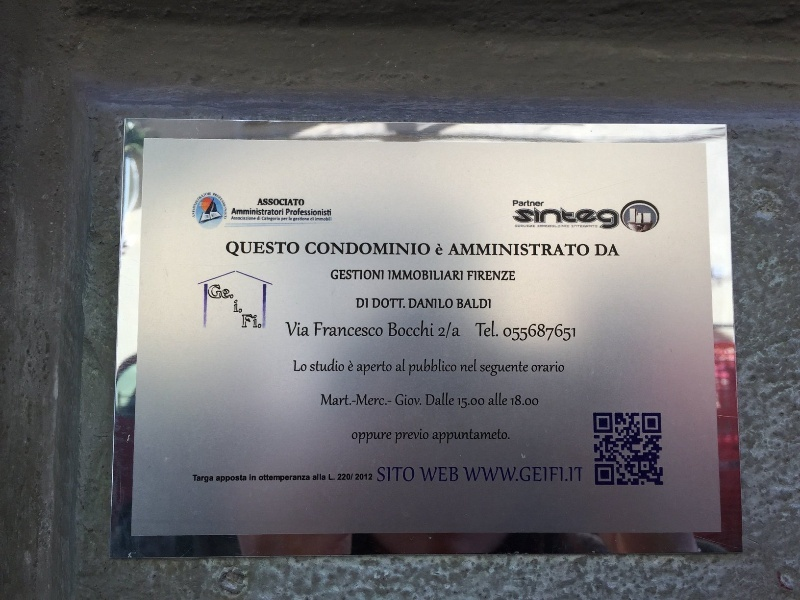text: (225, 282, 240, 341), (241, 282, 256, 341), (257, 282, 267, 341), (193, 191, 208, 223), (529, 207, 544, 231), (545, 207, 560, 231), (561, 207, 576, 231), (577, 207, 592, 231), (593, 207, 608, 231), (213, 192, 224, 223), (515, 207, 528, 231), (513, 323, 528, 343), (529, 323, 544, 343), (545, 323, 560, 343), (561, 323, 576, 343), (417, 356, 432, 376), (433, 356, 448, 376), (433, 425, 448, 445), (449, 425, 464, 445), (465, 425, 480, 445), (481, 425, 496, 445), (401, 426, 416, 445), (497, 425, 511, 445), (289, 321, 304, 339), (401, 320, 416, 338), (417, 320, 432, 338), (481, 320, 496, 338), (481, 360, 496, 378), (497, 360, 512, 378), (513, 360, 528, 378), (465, 466, 480, 484), (481, 466, 496, 484), (497, 466, 512, 484), (513, 466, 528, 484), (529, 466, 544, 484), (545, 466, 560, 484), (561, 466, 576, 484), (417, 426, 431, 445), (609, 207, 620, 231), (241, 241, 256, 258), (257, 241, 272, 258), (273, 241, 288, 258), (369, 360, 384, 377), (321, 392, 336, 409), (337, 392, 352, 409), (353, 392, 368, 409), (369, 392, 384, 409), (385, 392, 400, 409), (401, 392, 416, 409), (433, 391, 448, 408), (385, 466, 400, 483), (433, 466, 448, 483), (465, 242, 480, 258), (481, 242, 496, 258), (497, 242, 512, 258), (513, 242, 528, 258), (529, 242, 544, 258), (545, 242, 560, 258), (561, 242, 576, 258), (321, 322, 336, 338), (337, 322, 352, 338), (353, 322, 368, 338), (369, 322, 384, 338), (353, 431, 368, 447), (369, 431, 384, 447), (226, 241, 240, 258), (401, 466, 415, 483), (449, 321, 461, 340), (305, 242, 320, 257), (321, 242, 336, 257), (337, 242, 352, 257), (353, 242, 368, 257), (369, 242, 384, 257), (385, 242, 400, 257), (401, 242, 416, 257), (417, 242, 432, 257), (321, 358, 336, 373), (545, 360, 560, 375), (419, 466, 432, 483), (388, 320, 400, 338), (594, 244, 608, 259), (465, 397, 480, 411), (513, 395, 528, 409), (497, 388, 508, 407), (577, 242, 590, 258), (289, 241, 301, 258), (435, 242, 448, 257), (609, 244, 622, 259), (452, 242, 464, 258), (357, 360, 368, 377), (449, 466, 460, 483), (385, 298, 400, 310), (401, 298, 416, 310), (417, 298, 432, 310), (433, 298, 448, 310), (465, 358, 477, 373), (221, 282, 224, 341), (439, 321, 448, 340), (337, 270, 352, 281), (353, 270, 368, 281), (369, 270, 384, 281), (401, 270, 416, 281), (417, 270, 432, 281), (433, 270, 448, 281), (449, 270, 464, 281), (481, 270, 496, 281), (497, 270, 512, 281), (465, 299, 480, 310), (533, 360, 544, 375), (193, 474, 208, 485), (504, 323, 512, 343), (408, 356, 416, 376), (449, 356, 457, 376), (466, 270, 480, 281), (529, 395, 540, 409), (273, 474, 288, 484), (289, 474, 304, 484), (372, 298, 384, 310), (387, 270, 400, 281), (355, 298, 368, 309), (293, 360, 304, 373), (385, 360, 393, 377), (241, 207, 256, 216), (257, 207, 272, 216), (289, 208, 304, 217), (305, 208, 320, 217), (337, 358, 346, 373), (225, 474, 240, 483), (489, 388, 496, 407), (259, 474, 272, 484), (289, 199, 305, 207), (225, 192, 229, 223), (481, 299, 492, 310), (273, 199, 288, 207), (513, 200, 528, 208), (529, 200, 544, 208), (312, 358, 320, 373), (353, 473, 368, 481), (417, 392, 424, 409), (425, 391, 432, 408), (313, 322, 320, 338), (385, 431, 392, 447), (456, 397, 464, 411), (338, 473, 352, 481), (305, 321, 311, 339), (577, 466, 583, 484), (241, 216, 256, 223), (257, 216, 272, 223), (273, 216, 288, 223), (289, 216, 304, 223), (305, 216, 320, 223), (259, 199, 272, 207), (449, 391, 455, 408), (378, 466, 384, 483), (273, 207, 284, 216), (321, 208, 332, 217), (209, 191, 212, 223), (395, 426, 400, 445), (475, 320, 480, 338), (456, 299, 464, 310), (401, 356, 406, 373), (321, 216, 332, 223), (561, 360, 566, 375), (216, 474, 224, 483), (481, 397, 486, 411), (396, 356, 400, 373), (328, 473, 336, 481), (233, 207, 240, 216), (231, 216, 240, 223), (241, 474, 248, 483), (460, 358, 464, 373), (305, 474, 311, 484), (313, 473, 320, 481), (331, 270, 336, 281), (209, 474, 214, 485), (285, 321, 288, 339), (449, 298, 453, 310), (250, 474, 256, 482), (321, 473, 326, 481), (305, 360, 308, 373), (433, 320, 435, 338), (497, 320, 499, 338), (462, 466, 464, 484), (513, 270, 516, 281), (191, 191, 192, 223), (369, 473, 373, 481), (350, 360, 352, 374), (510, 395, 512, 409), (286, 208, 288, 217), (353, 360, 354, 374)
